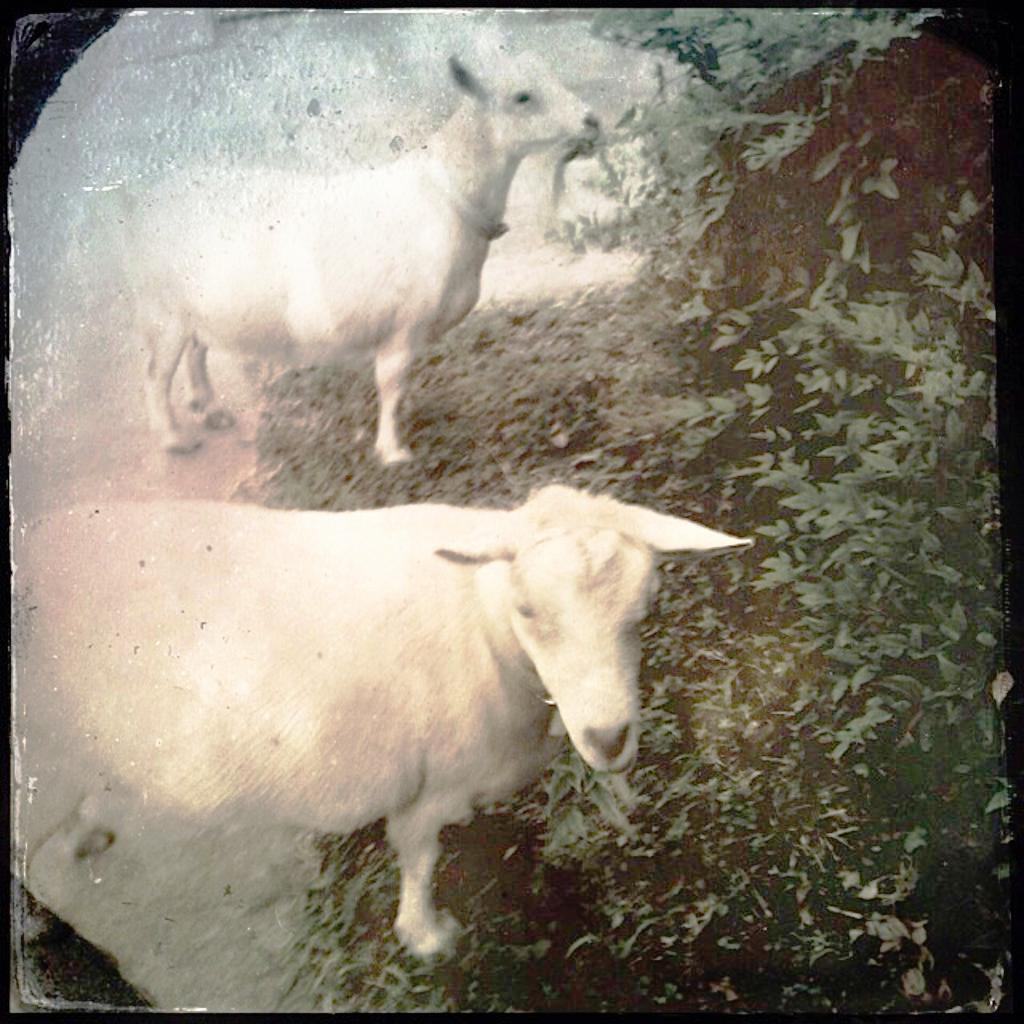Sheep: (8, 512, 755, 962), (122, 61, 606, 461)
